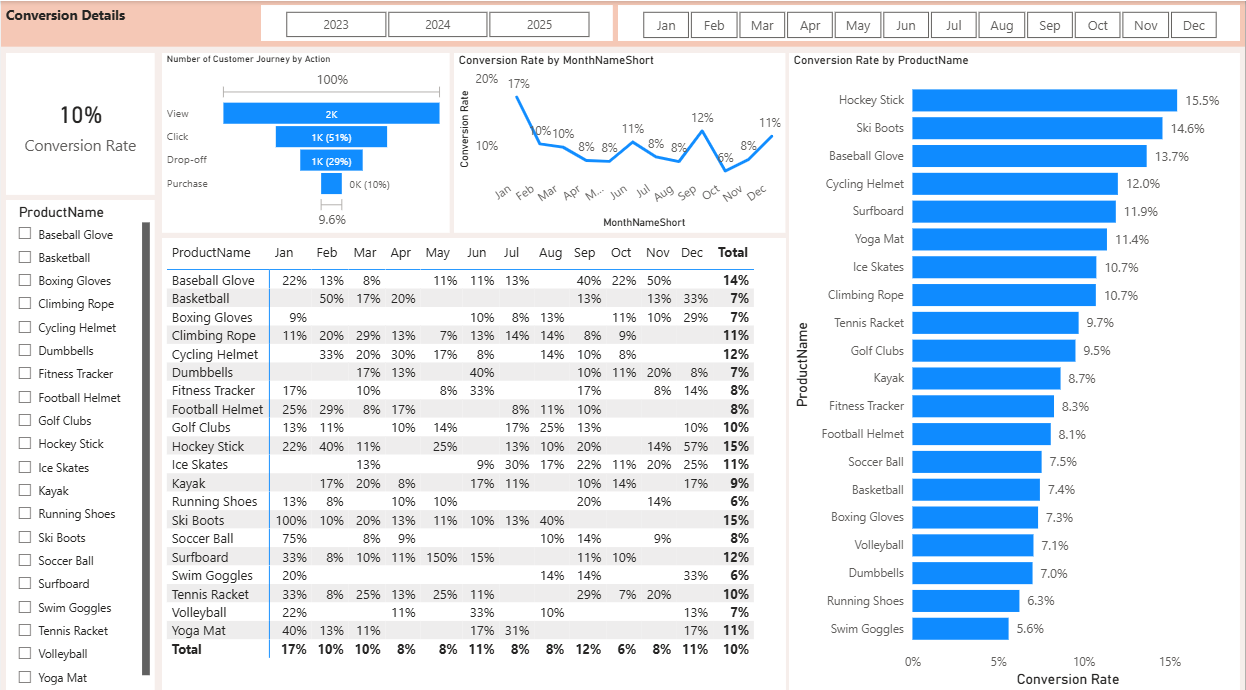

Layout of this report page (visuals, bound fields, positions):
{"tool":"powerbi","page":{"name":"Conversion Details","canvas":[1280,720],"ordinal":1},"visuals":[{"type":"textbox","box":[0,0,1279.8,46.8],"z":0},{"type":"slicer","fields":{"Values":["dim_products.ProductName"]},"box":[5.6,204.5,153,506.2],"z":1000},{"type":"card","fields":{"Values":["_Calculations.Conversion Rate"]},"box":[5.6,53.3,153,145.6],"z":2000},{"type":"slicer","fields":{"Values":["Calendar.Year"]},"box":[267.1,4.3,361.9,36.6],"z":3000},{"type":"slicer","fields":{"Values":["Calendar.MonthNameShort"]},"box":[634.5,4.3,640.1,36.6],"z":4000},{"type":"lineChart","fields":{"Y":["_Calculations.Conversion Rate"],"Category":["Calendar.MonthNameShort"]},"box":[466,53.9,341.4,185.3],"z":5000},{"type":"clusteredBarChart","fields":{"Category":["dim_products.ProductName"],"Y":["_Calculations.Conversion Rate"]},"box":[810.5,53.3,464.1,657.4],"z":6000},{"type":"pivotTable","fields":{"Values":["_Calculations.Conversion Rate"],"Rows":["dim_products.ProductName"],"Columns":["Calendar.MonthNameShort"]},"box":[165.4,244.1,641.9,466.6],"z":7000},{"type":"funnel","fields":{"Y":["_Calculations.Number of Customer Journey"],"Category":["fact_customer_journey.Action"]},"box":[165.4,53.9,295.6,185.3],"z":8000}]}

Visuals, with their boxes in screenshot pixels (x1, y1, x2, y2), scaled from the page's 1280x720 canvas onto the 1246x690 screenshot:
textbox: (x1=0, y1=0, x2=1245, y2=45)
slicer - dim_products.ProductName: (x1=5, y1=196, x2=154, y2=681)
card - _Calculations.Conversion Rate: (x1=5, y1=51, x2=154, y2=191)
slicer - Calendar.Year: (x1=260, y1=4, x2=612, y2=39)
slicer - Calendar.MonthNameShort: (x1=618, y1=4, x2=1241, y2=39)
lineChart - _Calculations.Conversion Rate x Calendar.MonthNameShort: (x1=454, y1=52, x2=786, y2=229)
clusteredBarChart - dim_products.ProductName x _Calculations.Conversion Rate: (x1=789, y1=51, x2=1241, y2=681)
pivotTable - _Calculations.Conversion Rate x dim_products.ProductName: (x1=161, y1=234, x2=786, y2=681)
funnel - _Calculations.Number of Customer Journey x fact_customer_journey.Action: (x1=161, y1=52, x2=449, y2=229)
